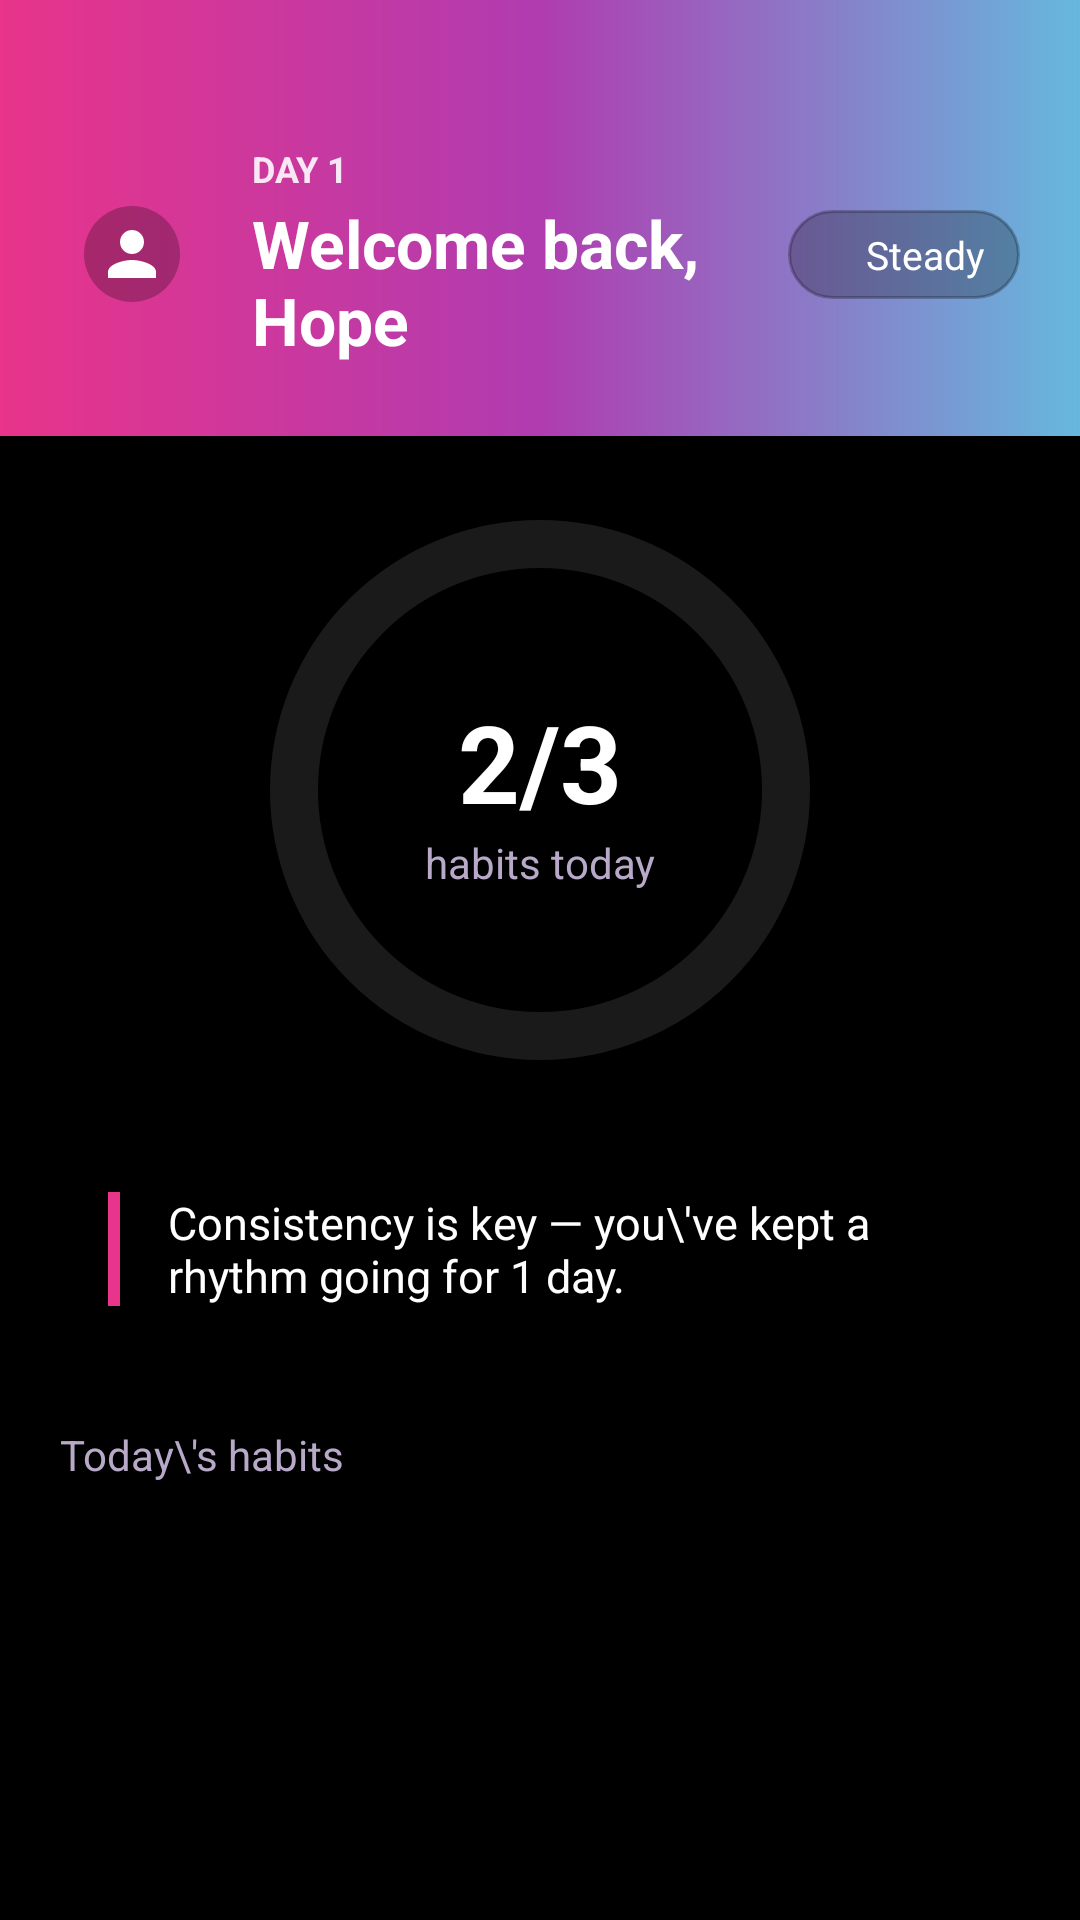

Locate icon controls on the screen. Image size 1080*1920, boxes as rect(x1, y1, x2, y2).
profile: rect(84, 206, 180, 302)
